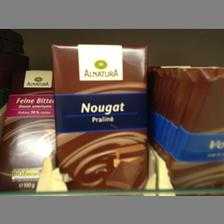Schokolade: (50, 43, 150, 190), (0, 68, 54, 188)
